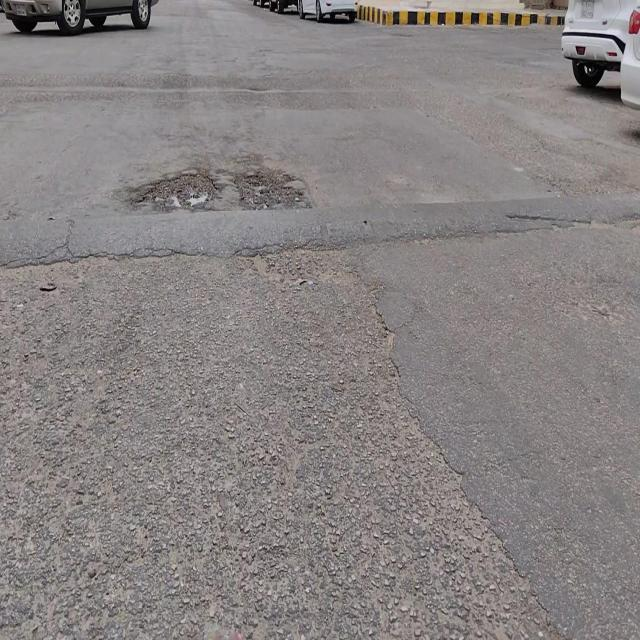Pothole: (139, 170, 216, 218), (239, 173, 304, 211)
